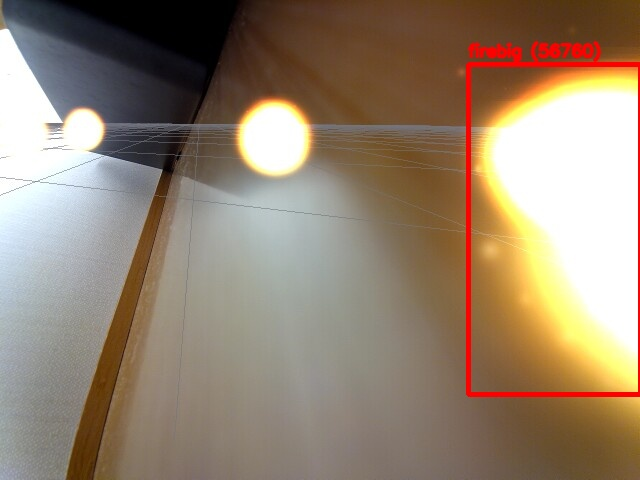firebig: (468, 64, 640, 394)
